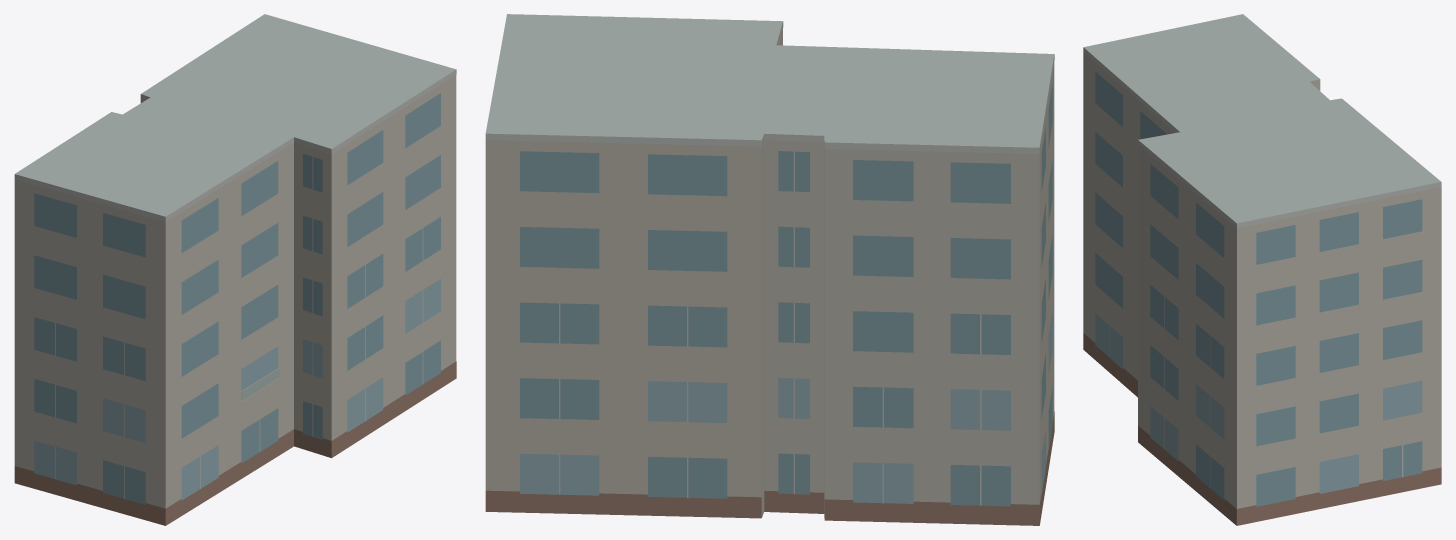
File: survey-upis-32910900.glb
3 renders of one model, left to right at view 1: azimuth 30°, elevation 25°; view 2: azimuth 150°, elevation 25°; view 3: azimuth 270°, elevation 25°, orthographic. The views are drawn at different scales.
Visible parts, largest first — view 1: survey-upis-32910900.tmp; view 2: survey-upis-32910900.tmp; view 3: survey-upis-32910900.tmp.
Boxes of the visible parts, bbox=[...] form: survey-upis-32910900.tmp: bbox=[14, 14, 456, 525]; survey-upis-32910900.tmp: bbox=[485, 14, 1054, 525]; survey-upis-32910900.tmp: bbox=[1083, 14, 1441, 525].
Size of the model in its own units: 21.54 by 14.5 by 15.57.
